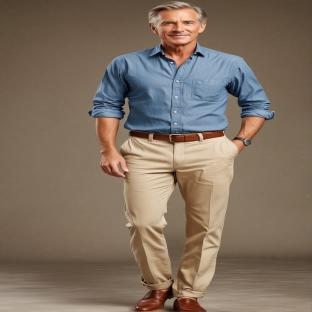Human: (89, 1, 274, 312)
